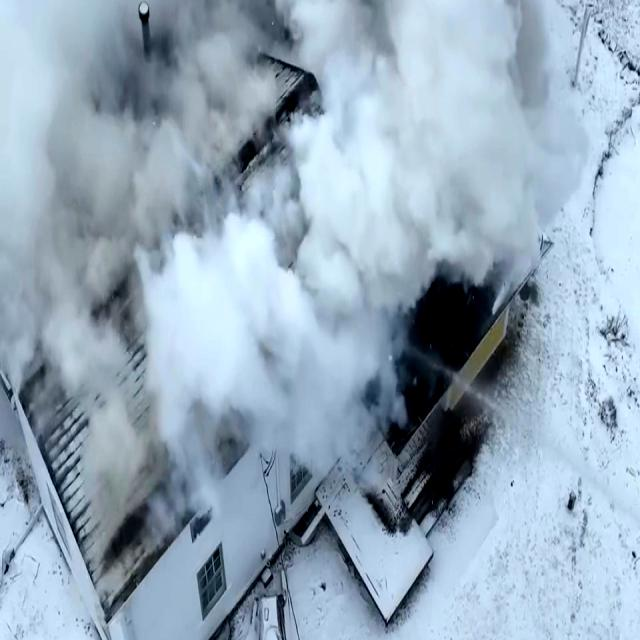smoke: (323, 0, 523, 292)
